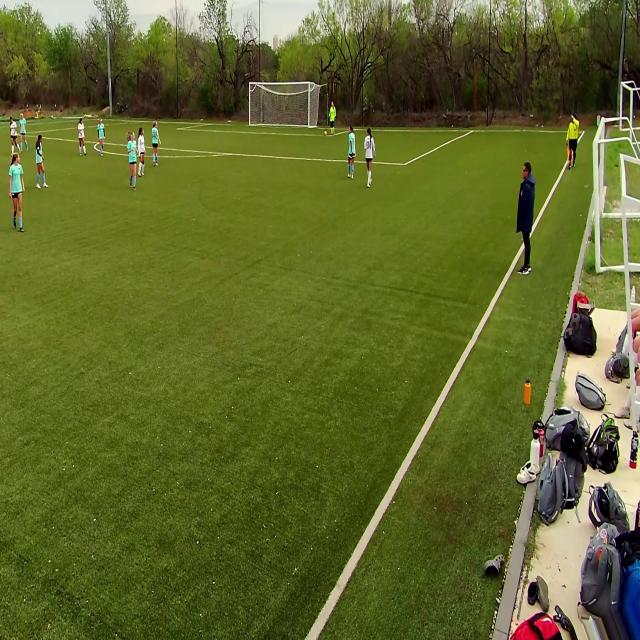ball: (323, 129, 329, 137)
team1: (10, 155, 27, 231), (35, 134, 50, 190), (128, 132, 140, 190), (346, 128, 357, 183), (151, 119, 162, 168), (96, 118, 106, 156), (20, 116, 28, 152)
team2: (364, 130, 377, 188), (136, 131, 147, 186), (10, 118, 21, 157), (78, 118, 88, 156)
